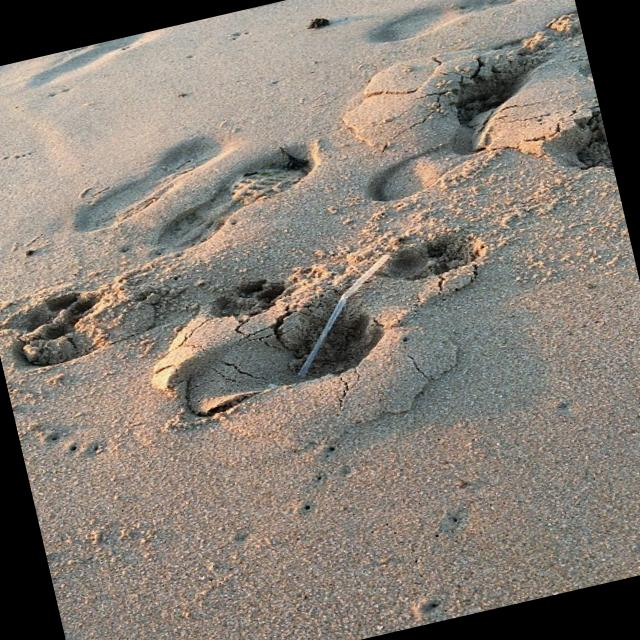Recycle: (272, 251, 410, 381)
